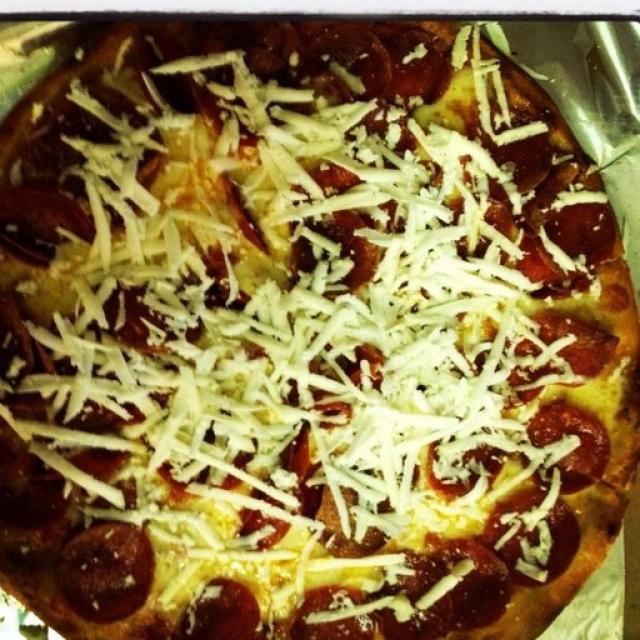Cheese: (71, 89, 494, 534)
Pepperoni: (57, 525, 136, 634), (496, 490, 574, 576), (532, 400, 602, 482), (435, 543, 507, 618), (555, 178, 615, 259), (314, 31, 394, 87), (546, 312, 619, 372), (199, 576, 259, 640)
Pizza: (0, 18, 640, 640)
